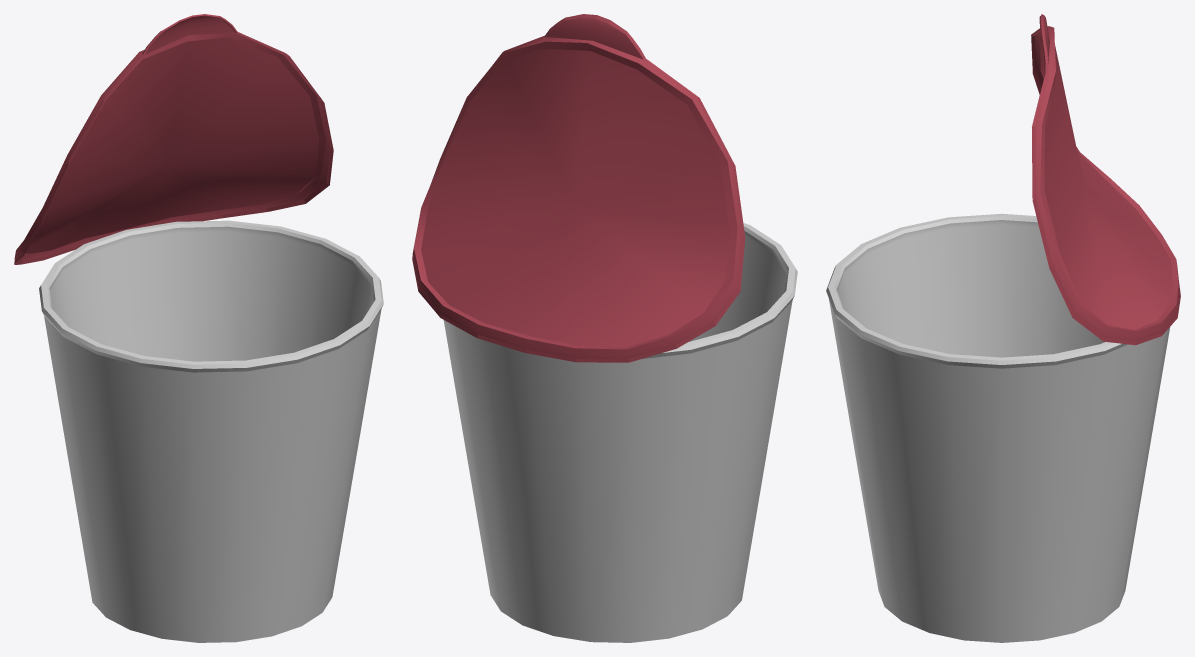
File: CupRamenOpen.fbx
3 renders of one model, left to right at view 1: azimuth 30°, elevation 25°; view 2: azimuth 150°, elevation 25°; view 3: azimuth 270°, elevation 25°, orthographic. The views are drawn at different scales.
Visible parts, largest first — view 1: RamenLidOpen; view 2: RamenLidOpen; view 3: RamenLidOpen.
Boxes of the visible parts, box(x1,y1,x2,y2) form: RamenLidOpen: box(14, 14, 383, 642); RamenLidOpen: box(412, 14, 797, 642); RamenLidOpen: box(826, 14, 1180, 642).
Bounding box in the file's own units: 2.17 × 3.81 × 2.15.
